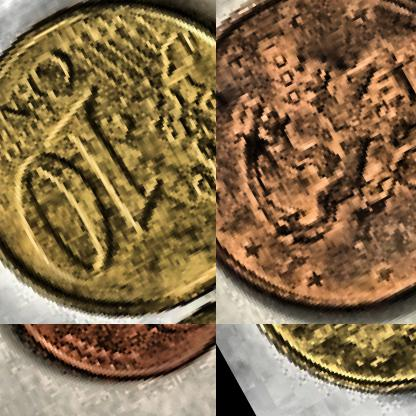coin: (0, 0, 215, 323), (216, 0, 415, 323), (0, 324, 215, 415), (216, 324, 415, 415)
